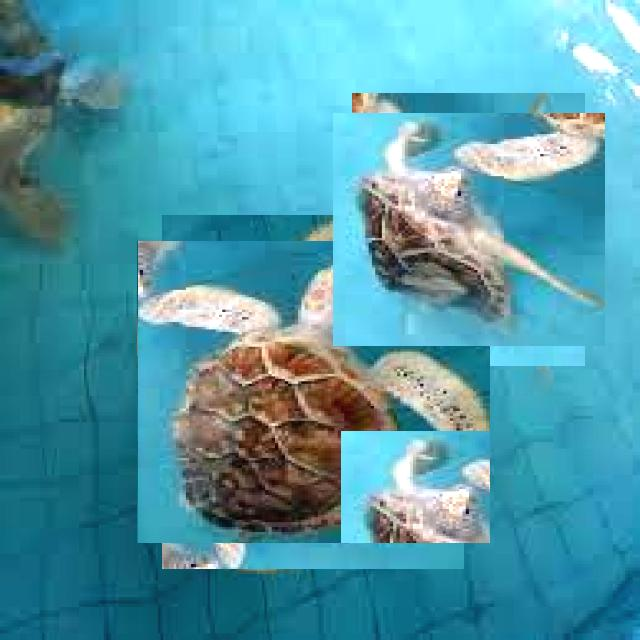Sea turtle: (149, 228, 477, 556), (342, 103, 595, 356)
